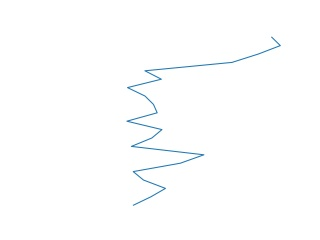crevasseRiverChannelBar: (121, 35, 286, 208)
